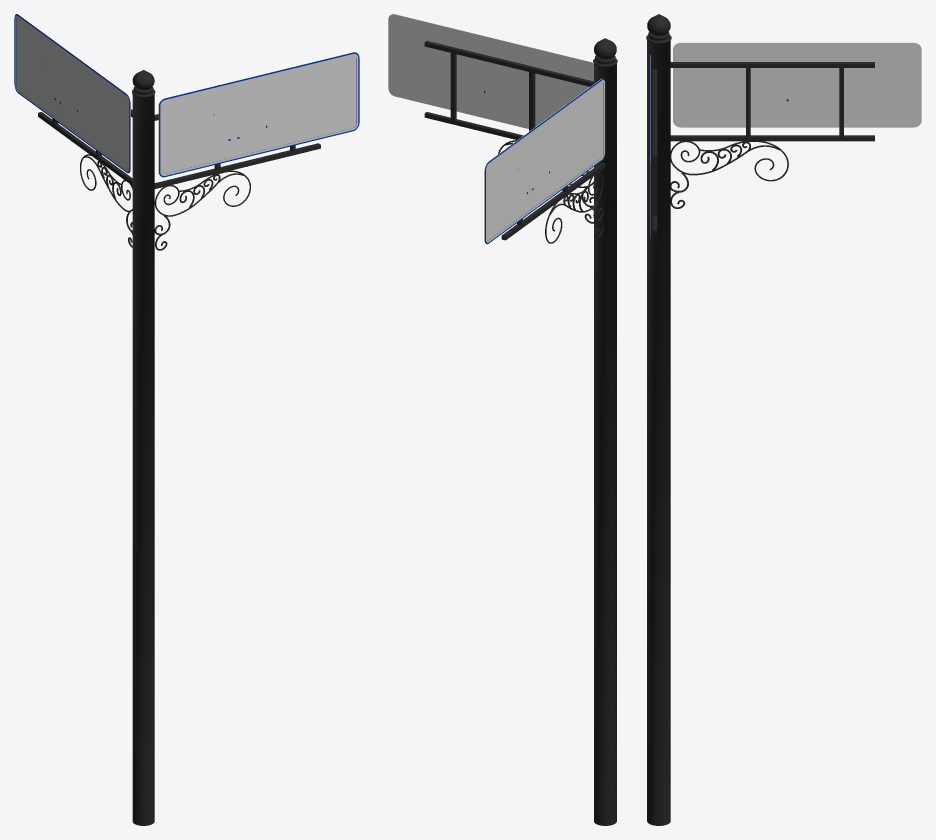
Rendered from street-signal.glb.
3 views of the same model, side by side, from view 1: azimuth 30°, elevation 25°; view 2: azimuth 150°, elevation 25°; view 3: azimuth 270°, elevation 25° (orthographic). The views are drawn at different scales.
Parts seen in each view (by area): view 1: C-one; view 2: C-one; view 3: C-one.
Part boxes in pixels (left/top/right/bottom): C-one: left=14, top=14, right=359, bottom=825; C-one: left=388, top=14, right=617, bottom=825; C-one: left=646, top=14, right=921, bottom=825.
Size of the model in its own units: 0.8857 by 2.86 by 0.8857.
